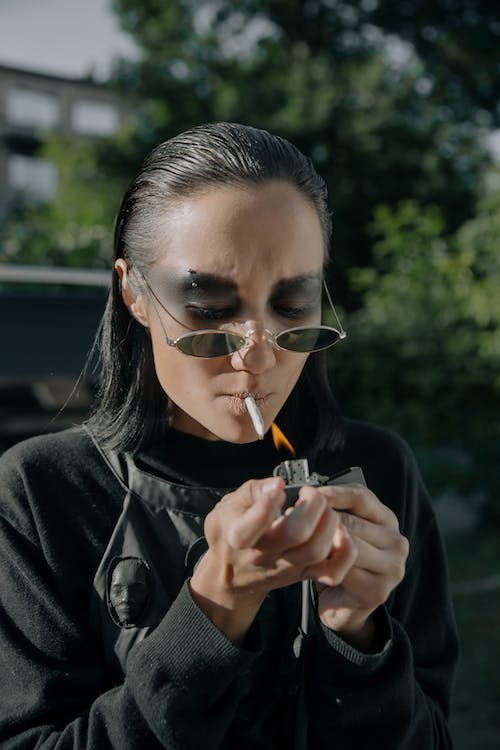cigarette: (243, 395, 268, 442)
